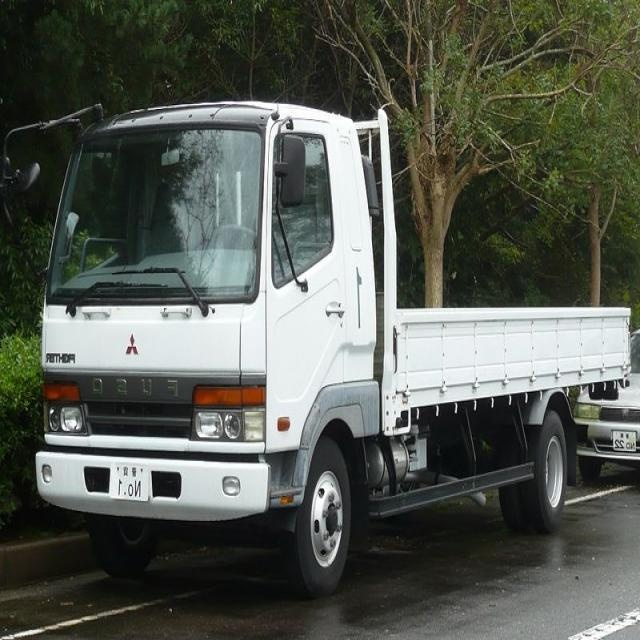truck: (24, 67, 632, 613)
